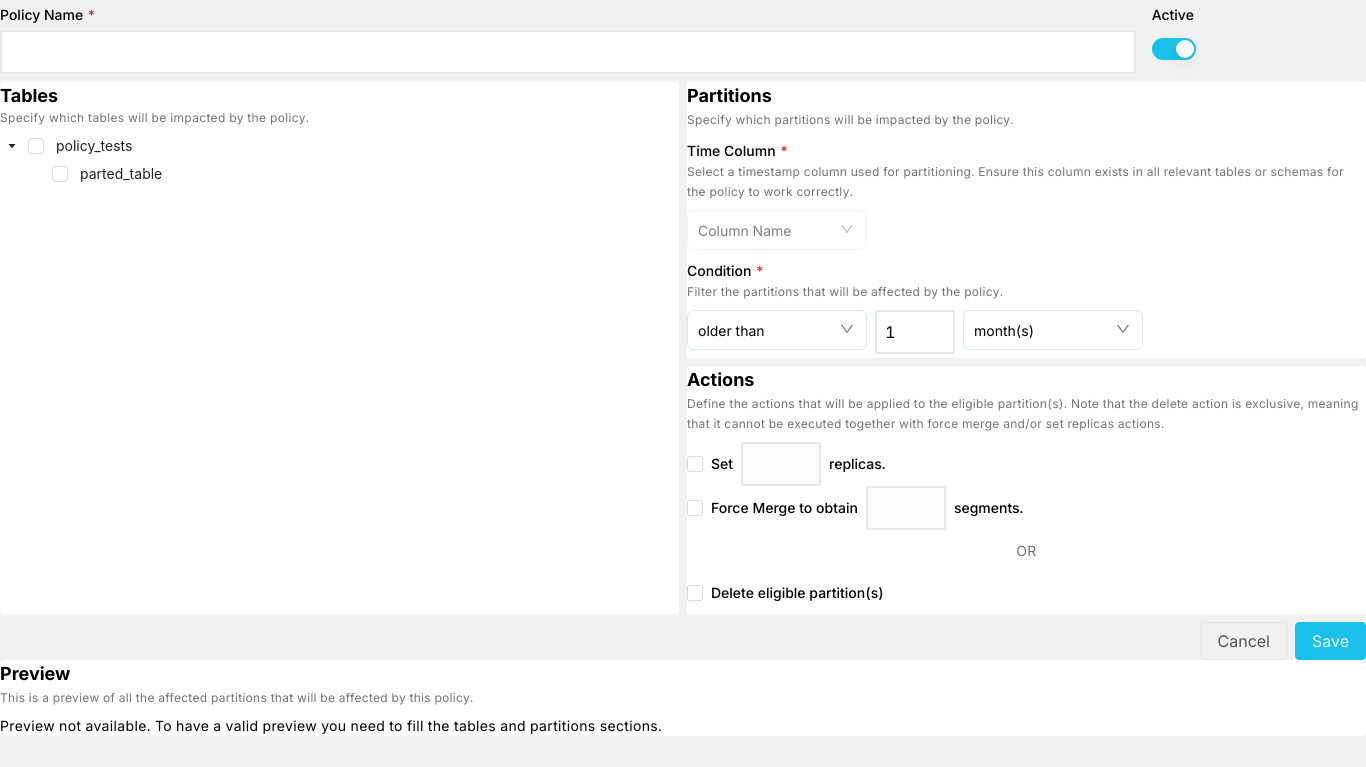
Test case: The "PolicyForm" component › the "Actions" field › the "force merge" action › gives validation error if enabled but value is 0
Click the checkbox with test id "forceMerge-enabled". click: (695, 508)
box: [687, 500, 703, 516]
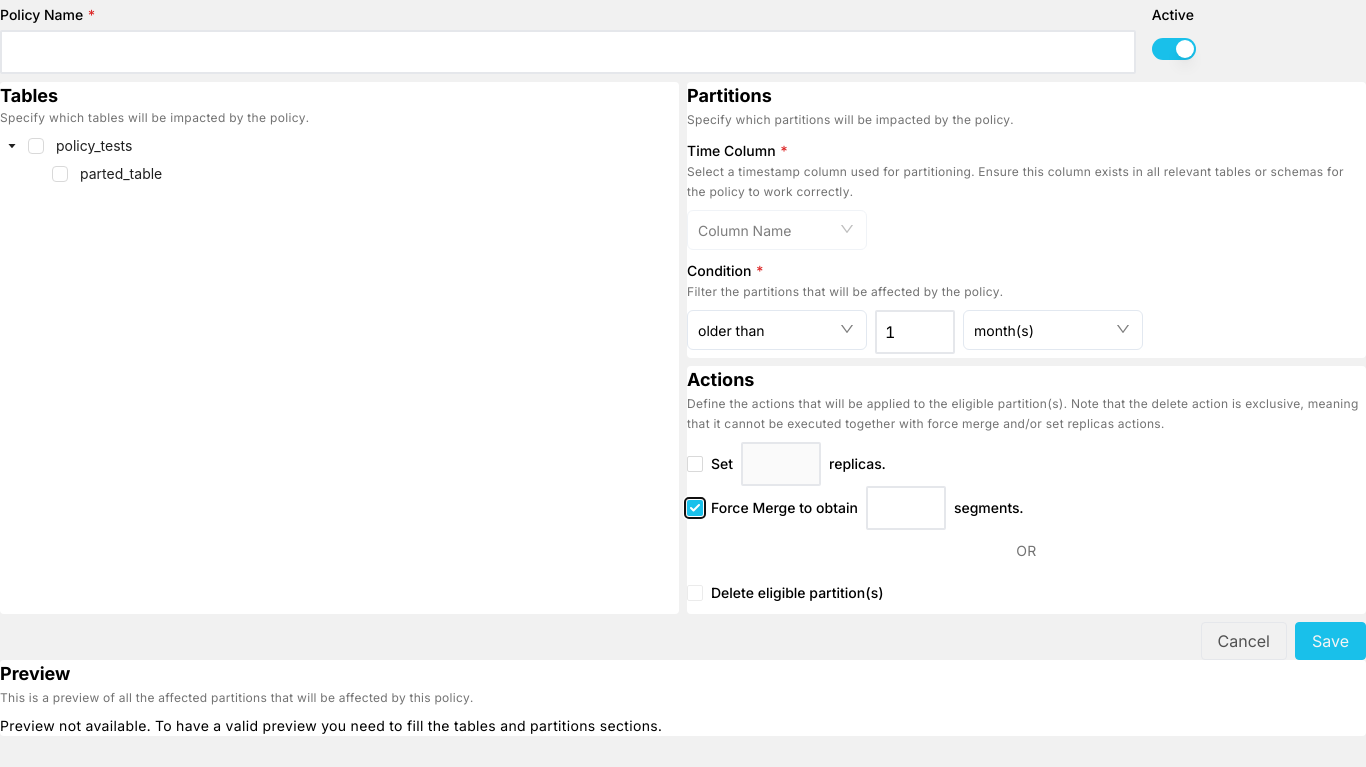
Type "0" into the field with test id "forceMerge-value". click: (906, 508)
box: [866, 486, 946, 530]
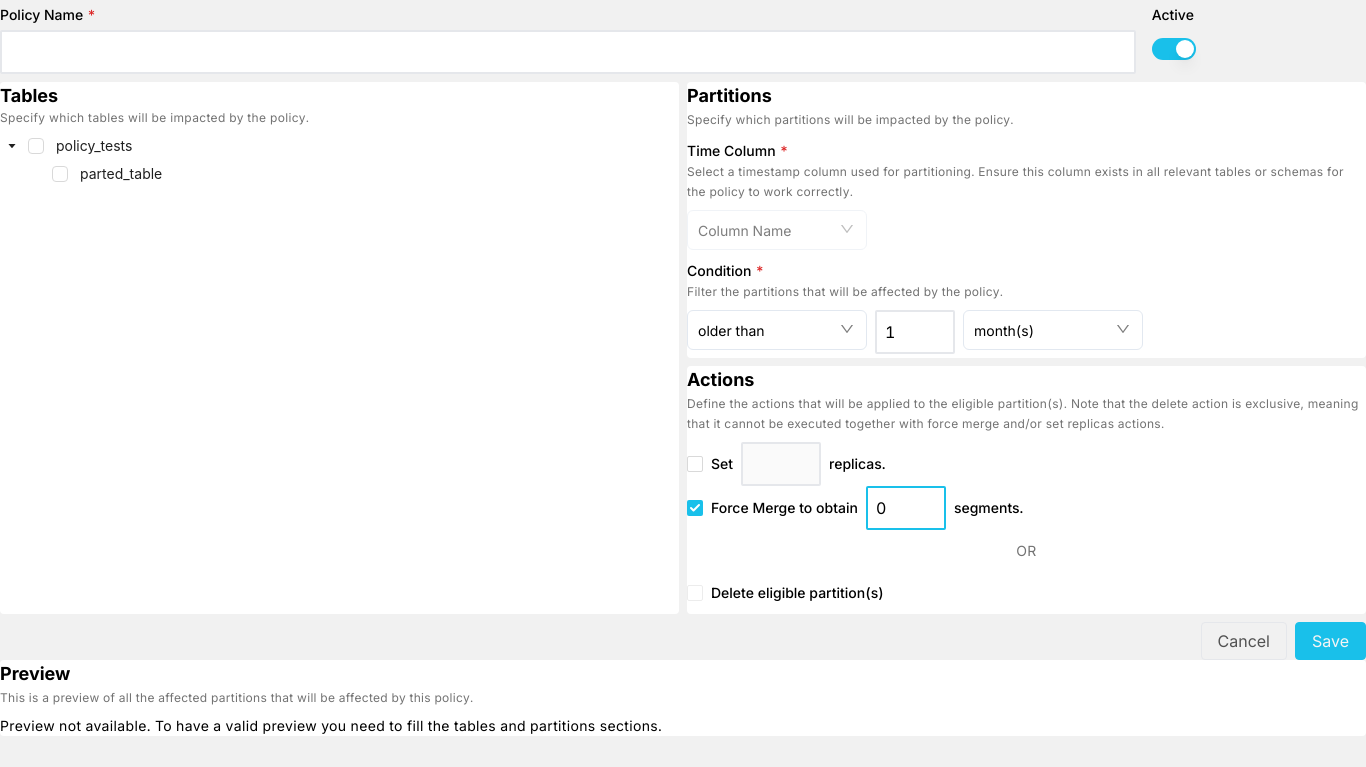
Click the button "Save". click: (1330, 641)
box: [1295, 622, 1365, 660]
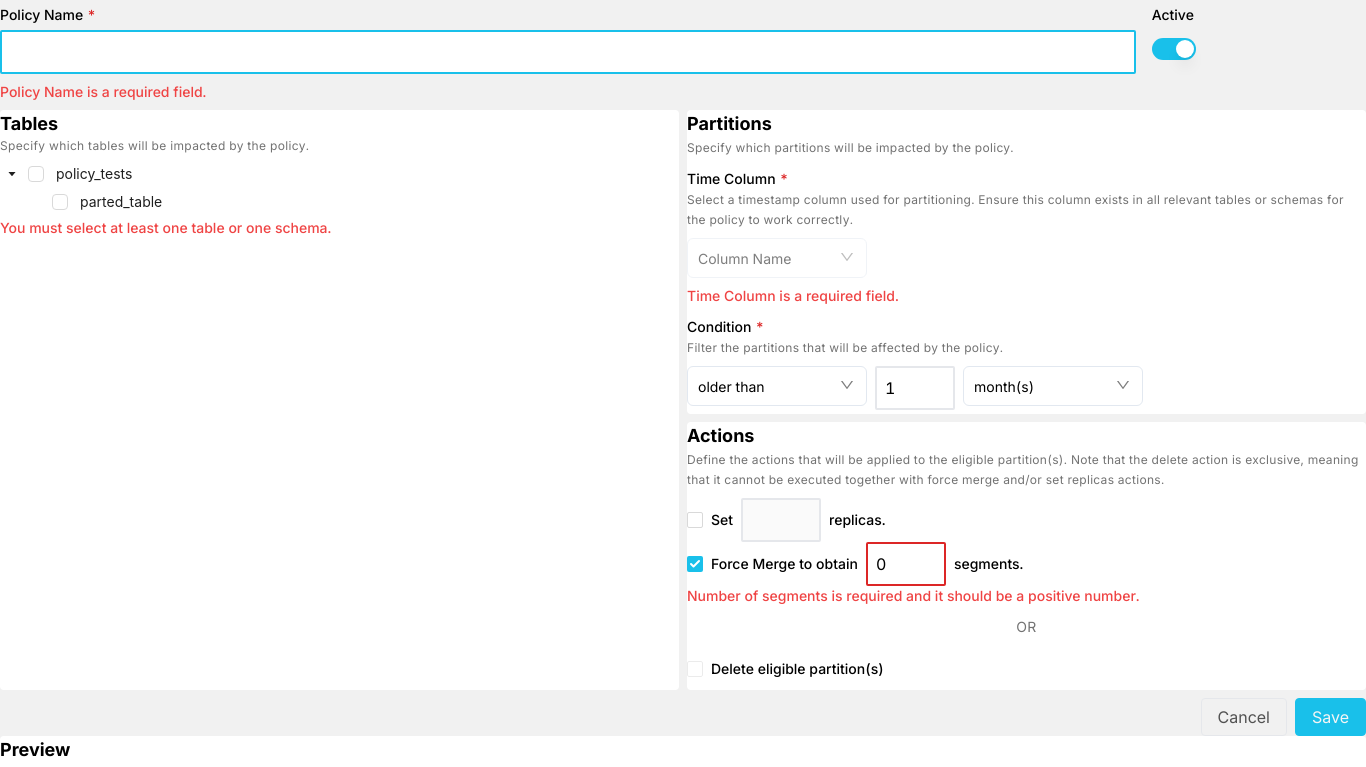
expect the text "Number of segments is required and it should be a positive number." is shown: met, box [687, 587, 1140, 604]
